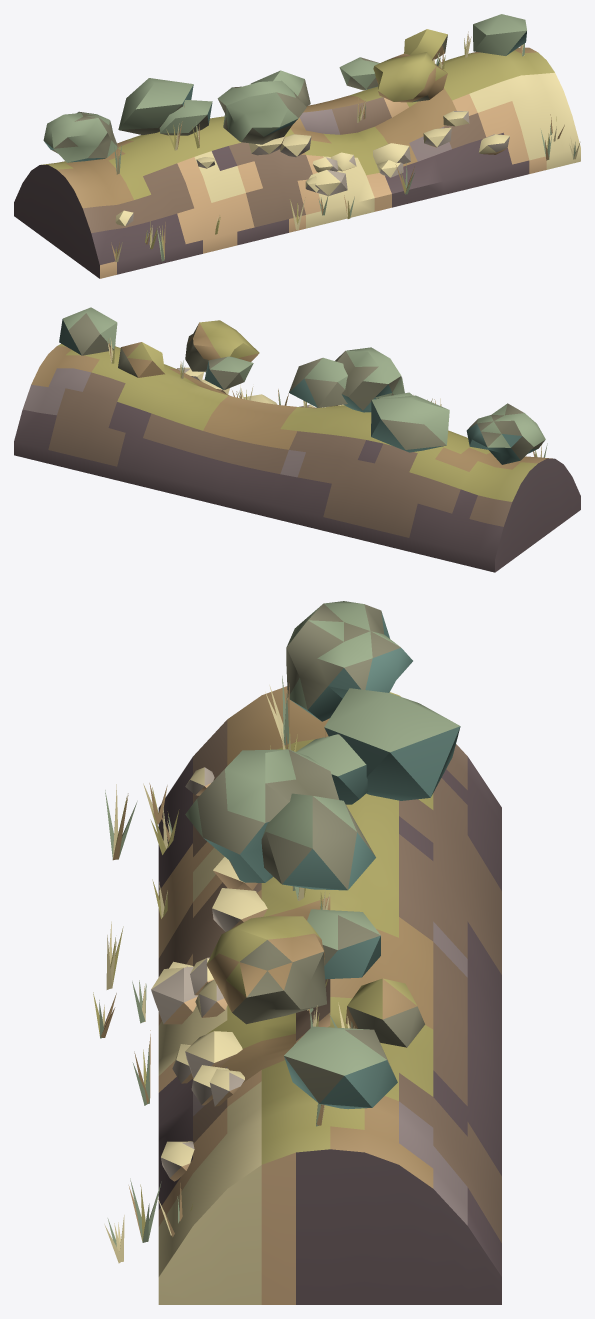
The model's file is hedgerow_segments_v3.glb.
3 views of the same model, one above another, from view 1: azimuth 30°, elevation 25°; view 2: azimuth 150°, elevation 25°; view 3: azimuth 270°, elevation 25° (orthographic). The views are drawn at different scales.
Visible parts, largest first — view 1: Body; view 2: Body; view 3: Body.
Part boxes in pixels (bbox=[...]): Body: bbox=[14, 14, 580, 278]; Body: bbox=[14, 307, 580, 572]; Body: bbox=[93, 601, 501, 1304].
Size of the model in its own units: 1.11 by 0.2886 by 0.4052.
